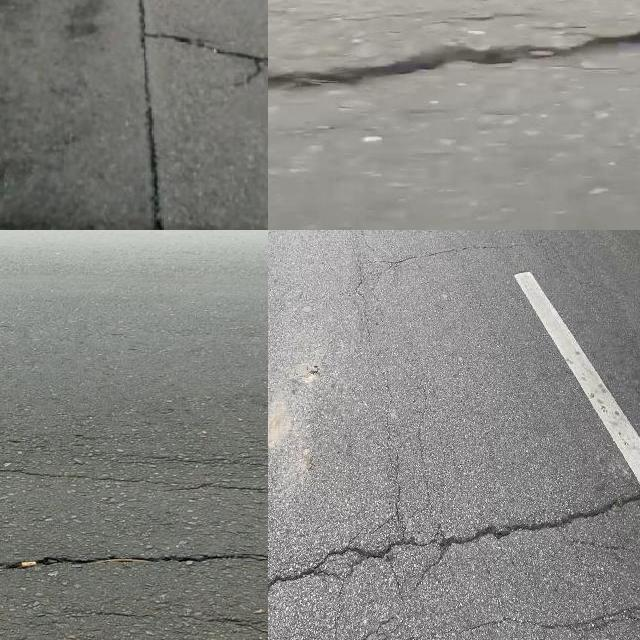Melintang: (268, 486, 640, 599), (268, 27, 640, 102), (0, 539, 268, 585), (129, 0, 179, 230), (134, 20, 268, 72)
